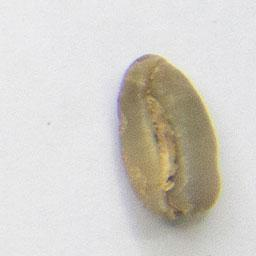longberry: (113, 48, 225, 224)
